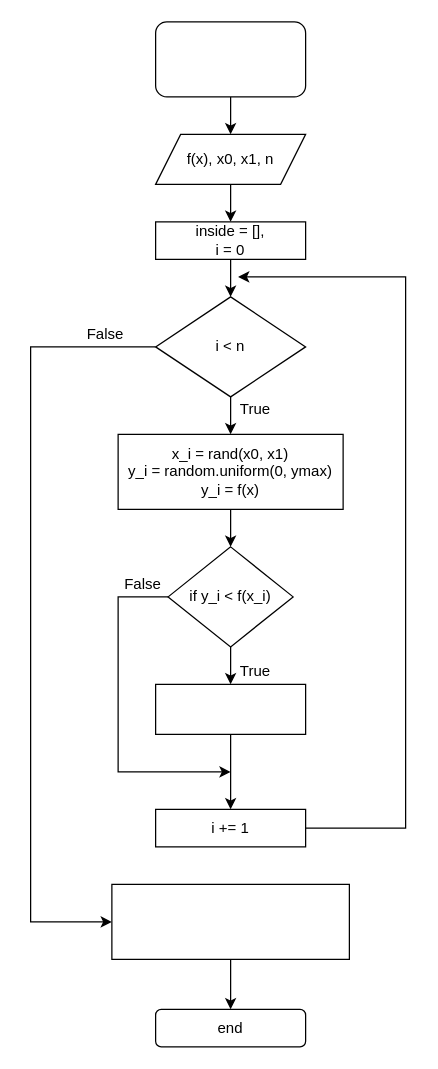
Image size: 438x1069. Some labels were removed from this diagram. The shapes that lost their labels are listed below. From the top down, each one's centre as x and y in pixels, then its label:
point 230,59: Start
point 230,708: inside.append(y)
point 230,921: integral = (x1-x0) * (ymax)*len(inside) / n
